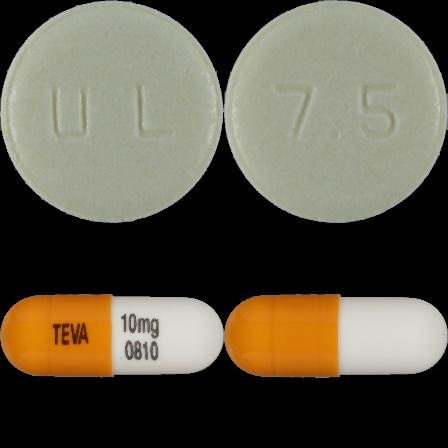61919-434: (0, 0, 224, 224)
